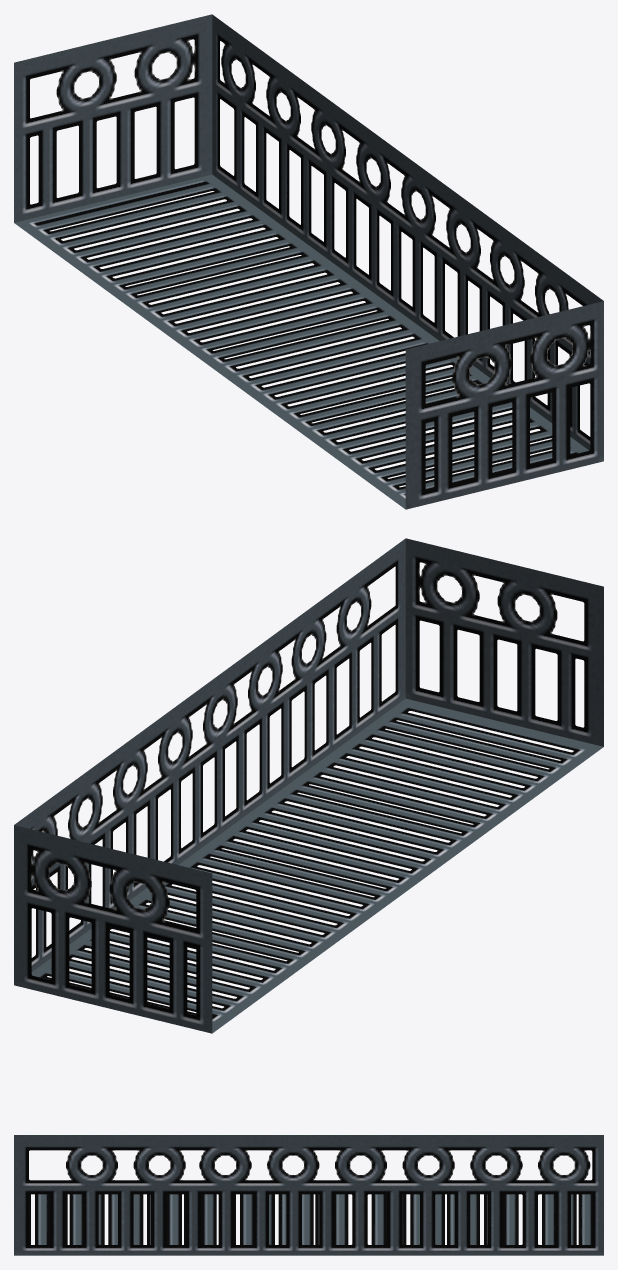
File: railing_03.FBX
3 renders of one model, top to bottom at view 1: azimuth 30°, elevation 25°; view 2: azimuth 150°, elevation 25°; view 3: azimuth 270°, elevation 25°, orthographic. The views are drawn at different scales.
Parts seen in each view (by area): view 1: railing_03; view 2: railing_03; view 3: railing_03.
Part boxes in pixels (x1,y1,x2,y2): railing_03: [14, 14, 603, 509]; railing_03: [14, 538, 603, 1033]; railing_03: [14, 1135, 603, 1255].
Bounding box in the file's own units: 148 × 114 × 506.
